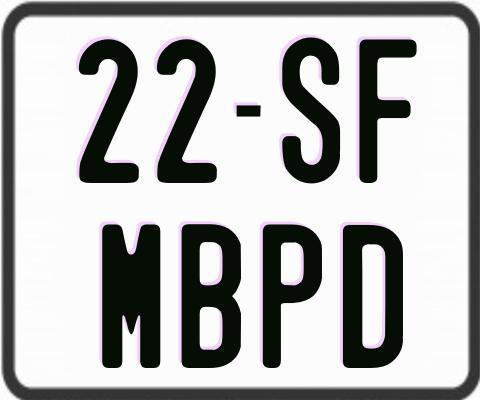2: (154, 37, 220, 187), (78, 37, 144, 181)
B: (182, 223, 244, 371)
D: (340, 224, 400, 371)
F: (356, 39, 419, 188)
M: (102, 223, 161, 367)
P: (262, 221, 322, 371)
S: (281, 34, 341, 185)
